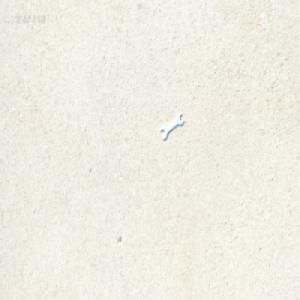Wrench: (160, 112, 182, 140)
